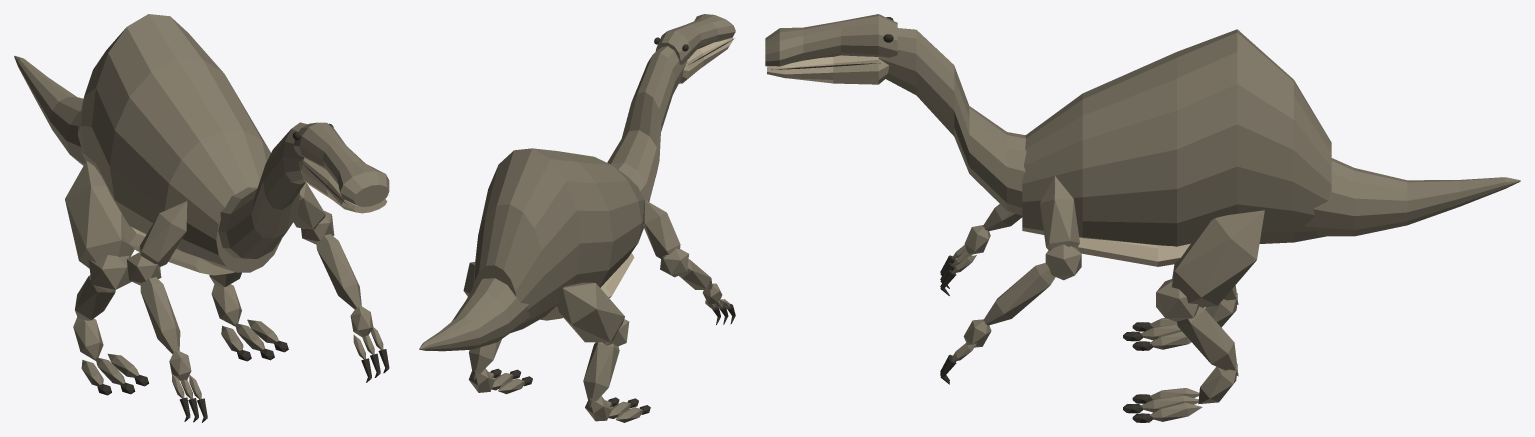
3 views of the same model, side by side, from view 1: azimuth 30°, elevation 25°; view 2: azimuth 150°, elevation 25°; view 3: azimuth 270°, elevation 25° (orthographic). The views are drawn at different scales.
Parts seen in each view (by area): view 1: surface_earth_taupe, surface_pale_underside, surface_eyes_claws; view 2: surface_earth_taupe, surface_pale_underside, surface_eyes_claws; view 3: surface_earth_taupe, surface_pale_underside, surface_eyes_claws.
Boxes of the visible parts, box(x1,y1,x2,y2) form: surface_earth_taupe: box(14, 14, 389, 399); surface_pale_underside: box(122, 158, 387, 275); surface_eyes_claws: box(97, 123, 389, 422); surface_earth_taupe: box(419, 14, 735, 422); surface_pale_underside: box(540, 37, 733, 320); surface_eyes_claws: box(490, 37, 735, 414); surface_earth_taupe: box(765, 14, 1520, 421); surface_pale_underside: box(767, 55, 1190, 266); surface_eyes_claws: box(771, 17, 1152, 422).
Size of the model in its own units: 0.334 by 0.528 by 1.
